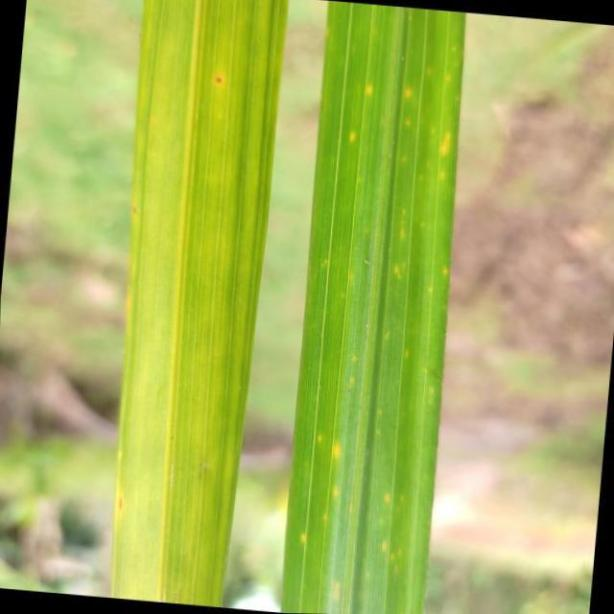nitrogen: (109, 0, 288, 614), (289, 0, 464, 614)
